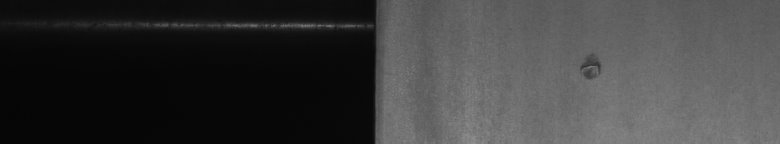fi: (577, 52, 604, 88)
